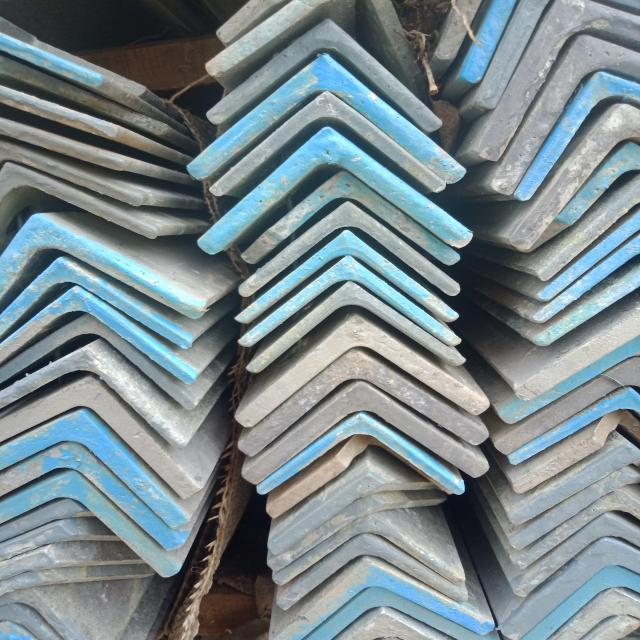metal-angles: (187, 54, 467, 184), (198, 127, 474, 255), (235, 313, 491, 428), (238, 348, 490, 457), (207, 18, 443, 132), (473, 1, 640, 162), (242, 379, 490, 485), (208, 90, 446, 197), (0, 375, 202, 499), (490, 34, 640, 195), (0, 410, 190, 529), (0, 213, 207, 322), (234, 229, 459, 324), (241, 169, 461, 266), (238, 201, 460, 297), (245, 280, 467, 373), (238, 255, 462, 347), (0, 443, 185, 551), (0, 346, 187, 450), (0, 470, 179, 577), (0, 313, 197, 410), (0, 286, 195, 383), (271, 560, 496, 640), (0, 256, 190, 349), (256, 411, 466, 495), (514, 71, 640, 202), (275, 534, 469, 610), (499, 537, 640, 640), (272, 514, 466, 586), (511, 513, 640, 596), (304, 587, 492, 640), (520, 566, 640, 640), (553, 587, 640, 640)
